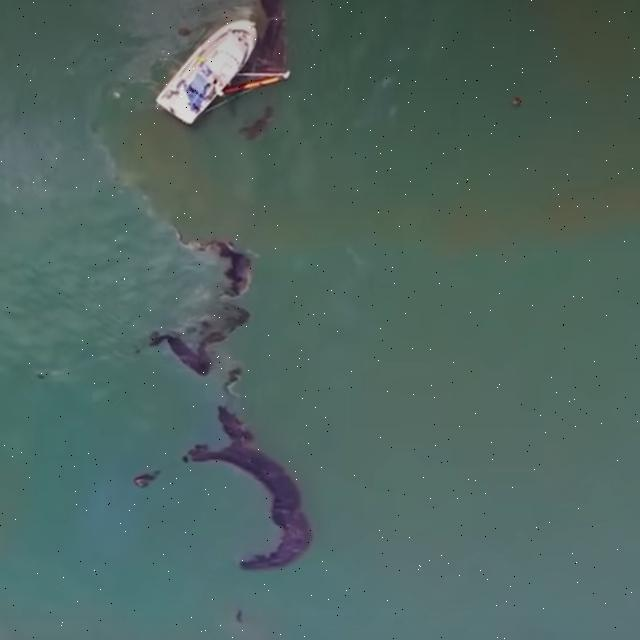truecolor: (182, 406, 312, 571), (148, 238, 252, 377), (206, 0, 289, 111), (240, 106, 275, 139), (132, 470, 159, 488)
